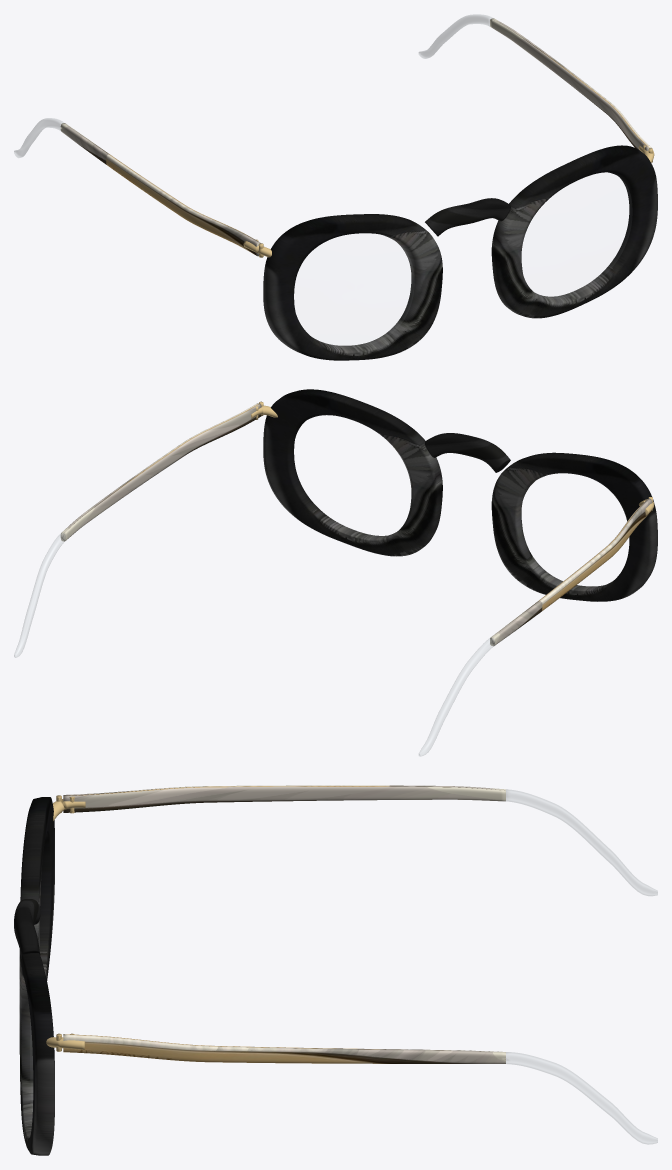
The model's file is prod-sun-w2.glb.
The picture shows the model from 3 angles, top to bottom: view 1: azimuth 30°, elevation 25°; view 2: azimuth 150°, elevation 25°; view 3: azimuth 270°, elevation 25°; orthographic projection. The views are drawn at different scales.
Visible parts, largest first — view 1: Traced bevelled frame -1, Traced bevelled frame 1, Fitted temple exterior -1, Fitted temple exterior 1, Saddle nose bridge, Fitted temple ear hook 1, Fitted temple ear hook -1; view 2: Traced bevelled frame 1, Traced bevelled frame -1, Fitted temple exterior 1, Fitted temple exterior -1, Saddle nose bridge, Fitted temple ear hook -1, Fitted temple ear hook 1; view 3: Fitted temple exterior -1, Fitted temple exterior 1, Traced bevelled frame 1, Traced bevelled frame -1, Fitted temple ear hook 1, Fitted temple ear hook -1, Saddle nose bridge.
Part boxes in pixels (x1=…): Traced bevelled frame -1: x1=263, y1=214, x2=442, y2=360; Traced bevelled frame 1: x1=491, y1=145, x2=657, y2=318; Fitted temple exterior -1: x1=60, y1=123, x2=260, y2=256; Fitted temple exterior 1: x1=490, y1=18, x2=651, y2=152; Saddle nose bridge: x1=425, y1=198, x2=510, y2=236; Fitted temple ear hook 1: x1=419, y1=14, x2=492, y2=58; Fitted temple ear hook -1: x1=14, y1=118, x2=63, y2=157; Traced bevelled frame 1: x1=263, y1=389, x2=442, y2=556; Traced bevelled frame -1: x1=491, y1=452, x2=657, y2=601; Fitted temple exterior 1: x1=60, y1=403, x2=261, y2=541; Fitted temple exterior -1: x1=490, y1=498, x2=652, y2=646; Saddle nose bridge: x1=424, y1=433, x2=510, y2=472; Fitted temple ear hook -1: x1=419, y1=637, x2=494, y2=756; Fitted temple ear hook 1: x1=14, y1=533, x2=65, y2=657; Fitted temple exterior -1: x1=63, y1=785, x2=505, y2=812; Fitted temple exterior 1: x1=63, y1=1034, x2=505, y2=1063; Traced bevelled frame 1: x1=19, y1=953, x2=54, y2=1155; Traced bevelled frame -1: x1=19, y1=797, x2=54, y2=980; Fitted temple ear hook 1: x1=506, y1=1052, x2=657, y2=1144; Fitted temple ear hook -1: x1=506, y1=789, x2=657, y2=895; Saddle nose bridge: x1=14, y1=899, x2=40, y2=957.
Size of the model in its own units: 0.1457 by 0.047 by 0.1484.
7 materials, 3 textured.
